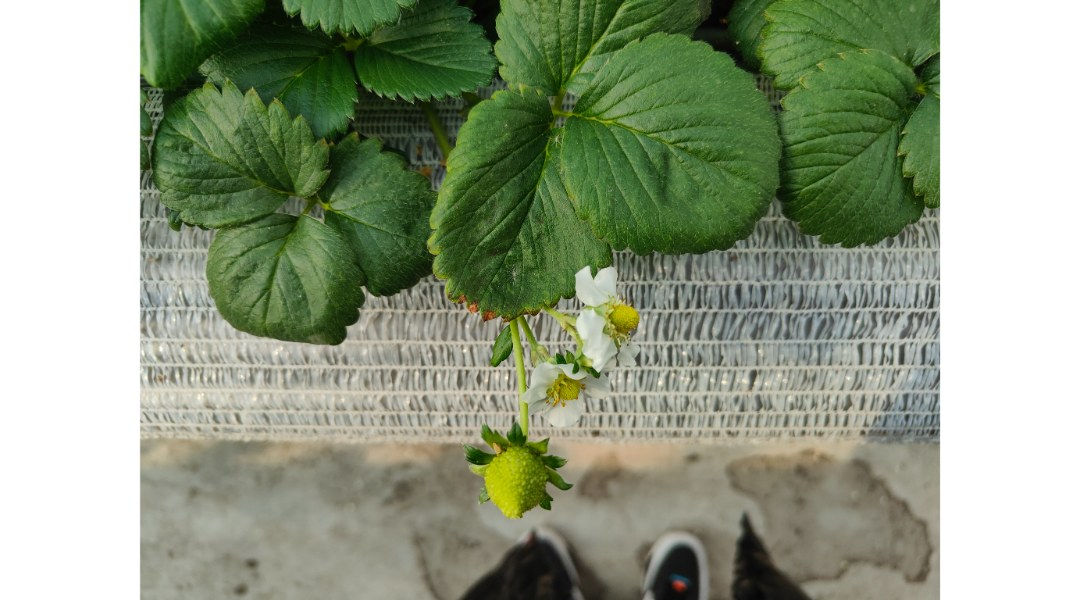berry: (469, 428, 570, 532)
flower: (572, 249, 641, 390), (525, 348, 599, 435)
strain: (497, 319, 535, 440)
